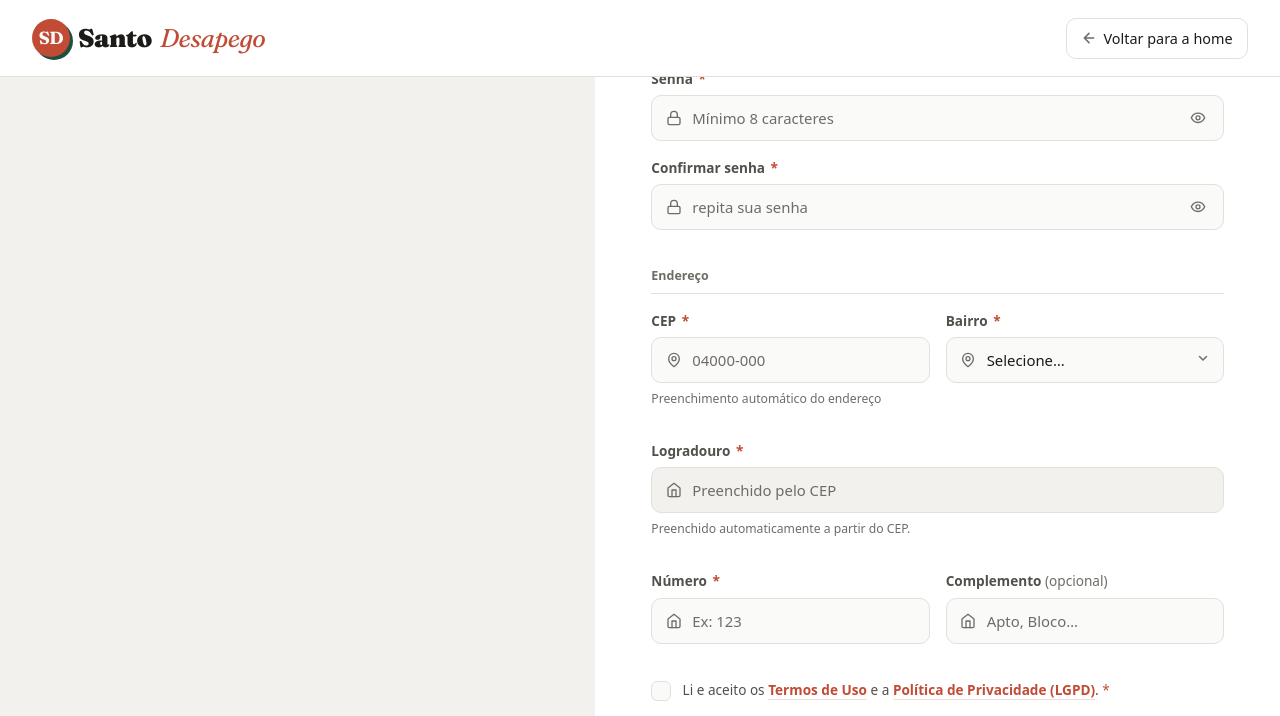
it: RF01 - Gestão de Perfil Geográfico › CEP sem rua cadastrada libera o logradouro para digitar
(page scrolled)
In the field with placeholder "04000-000": {"x": 790, "y": 360} top-left (651, 337), bottom-right (930, 383), type "04710150"
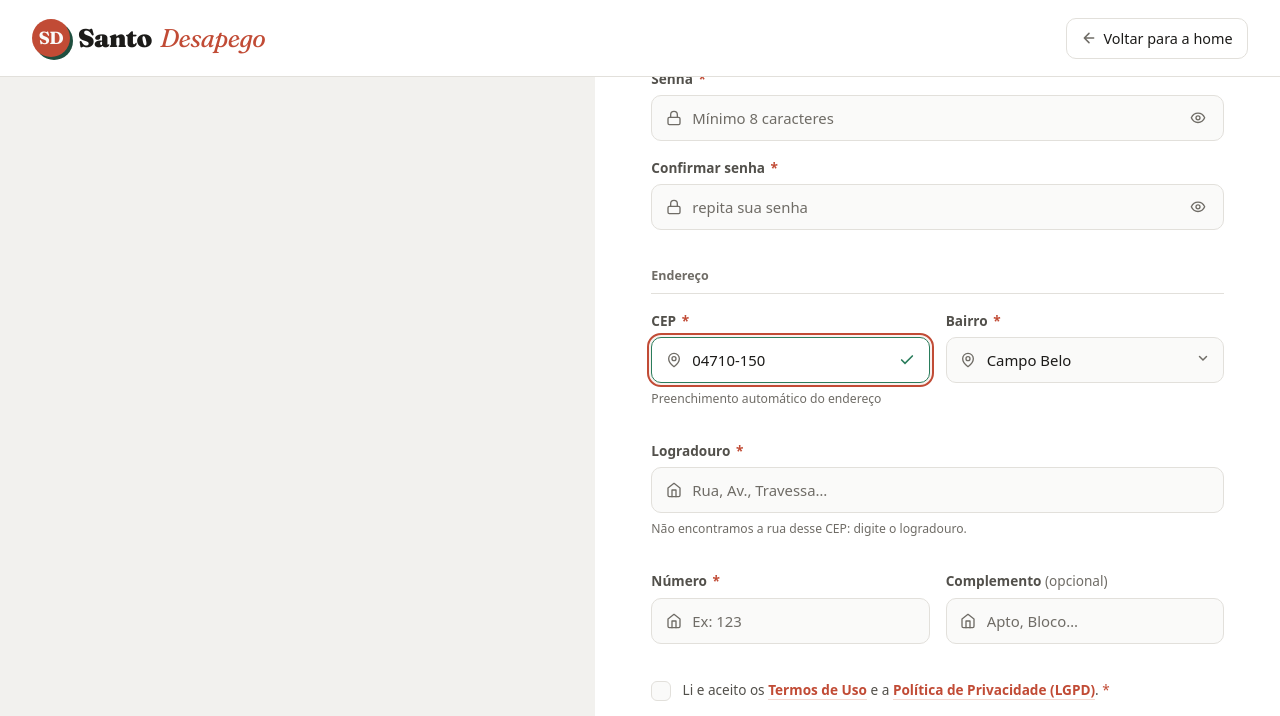
Now the text "Não encontramos a rua desse CEP: digite o logradouro." is shown, box top-left (651, 520), bottom-right (967, 537)
